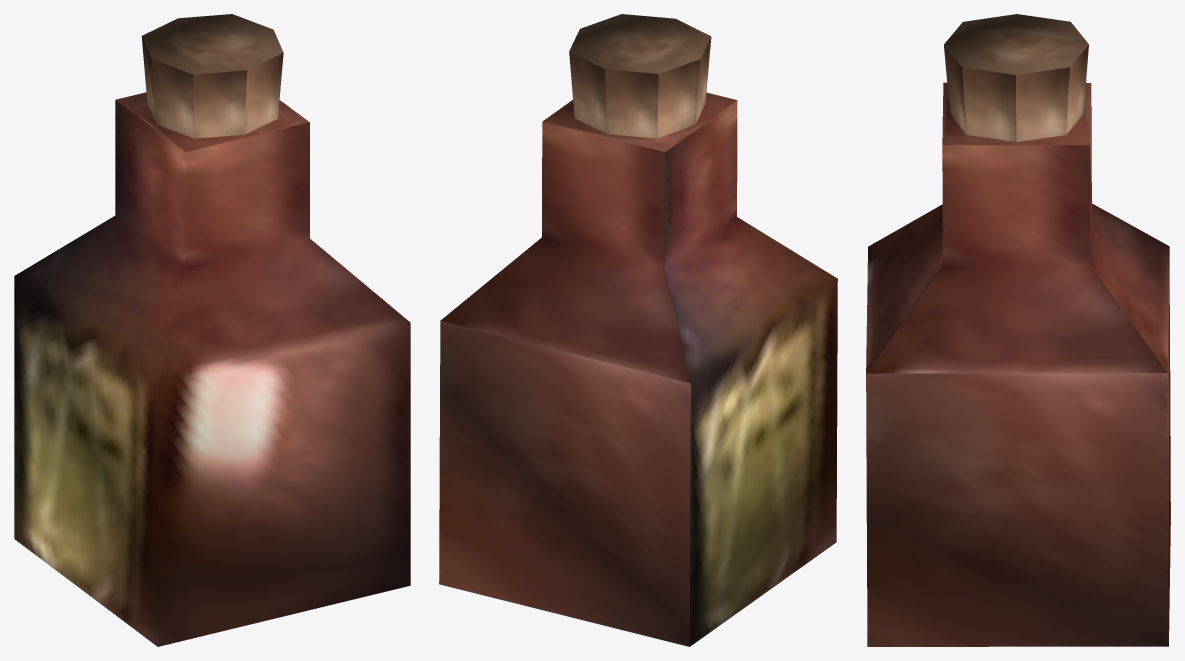
Rendered from antidote.obj.
3 views of the same model, side by side, from view 1: azimuth 30°, elevation 25°; view 2: azimuth 150°, elevation 25°; view 3: azimuth 270°, elevation 25° (orthographic). The views are drawn at different scales.
Visible parts, largest first — view 1: cube1; view 2: cube1; view 3: cube1.
Part boxes in pixels (<box>): cube1: <box>14,14,410,646</box>; cube1: <box>439,14,837,646</box>; cube1: <box>866,14,1170,646</box>.
Bounding box in the file's own units: 2.02 × 3.95 × 2.02.
1 material, 1 textured.
